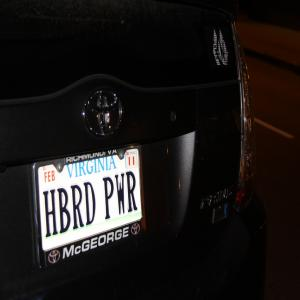Vehicle-registration-plate: (34, 144, 148, 273)
